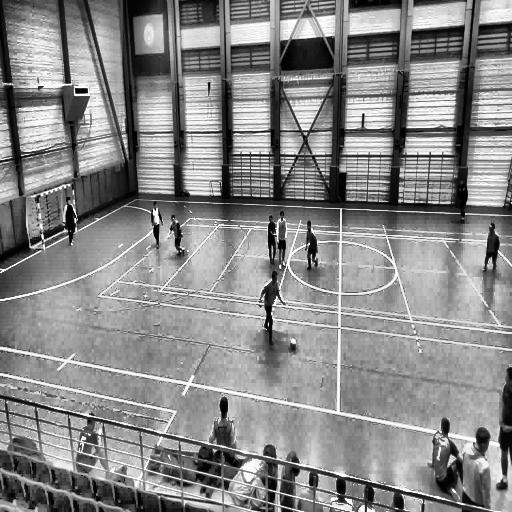ball: (290, 337, 296, 349)
player: (427, 416, 463, 503), (74, 411, 116, 480), (463, 427, 492, 510), (259, 270, 285, 347), (497, 367, 512, 492), (208, 395, 237, 451), (297, 470, 323, 512), (327, 474, 353, 512), (482, 222, 498, 272), (168, 214, 186, 258), (266, 212, 280, 267), (304, 220, 318, 271), (150, 199, 164, 250), (64, 197, 77, 246), (356, 483, 376, 512), (277, 212, 287, 268), (456, 179, 466, 222)
